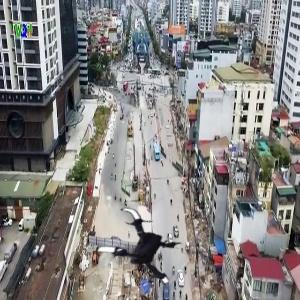drone: (96, 203, 194, 300)
